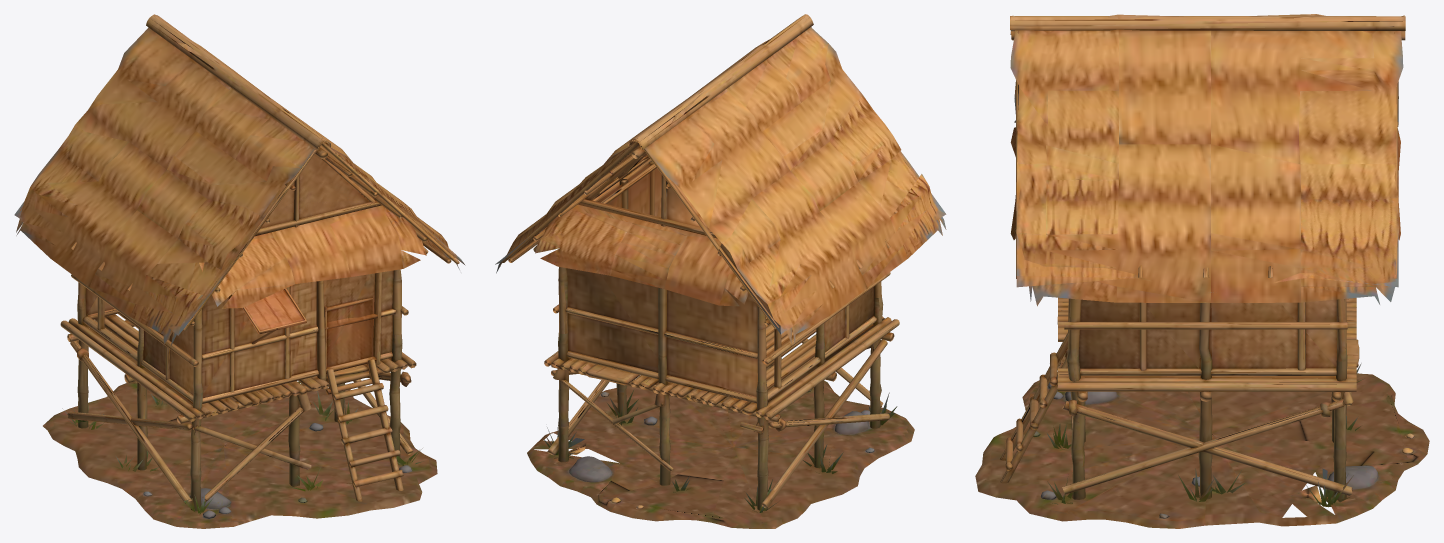
The model's file is bahay-kubo.glb.
The picture shows the model from 3 angles, left to right: view 1: azimuth 30°, elevation 25°; view 2: azimuth 150°, elevation 25°; view 3: azimuth 270°, elevation 25°; orthographic projection. The views are drawn at different scales.
Parts seen in each view (by area): view 1: geometry_0; view 2: geometry_0; view 3: geometry_0.
Boxes of the visible parts, x1,y1,x2,y2 form: geometry_0: [14, 14, 465, 528]; geometry_0: [495, 14, 946, 528]; geometry_0: [975, 14, 1429, 528].
Size of the model in its own units: 0.7798 by 0.9375 by 0.8897.
Materials: 1 (1 with a texture image).
